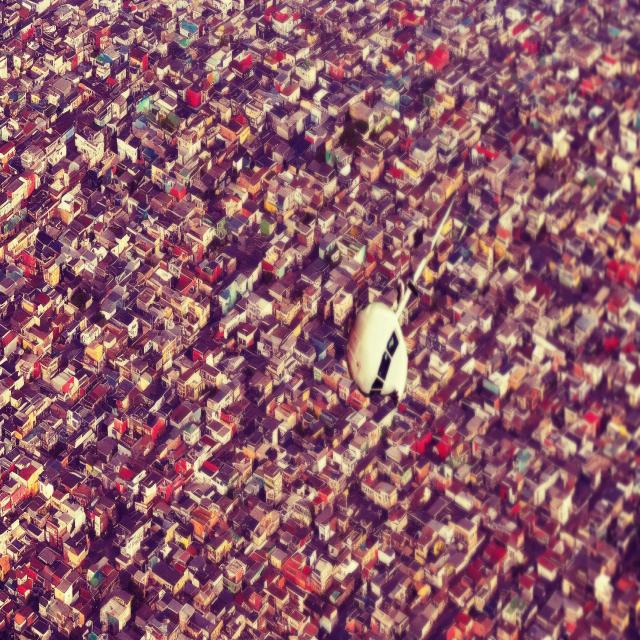airplane: (346, 200, 455, 404)
